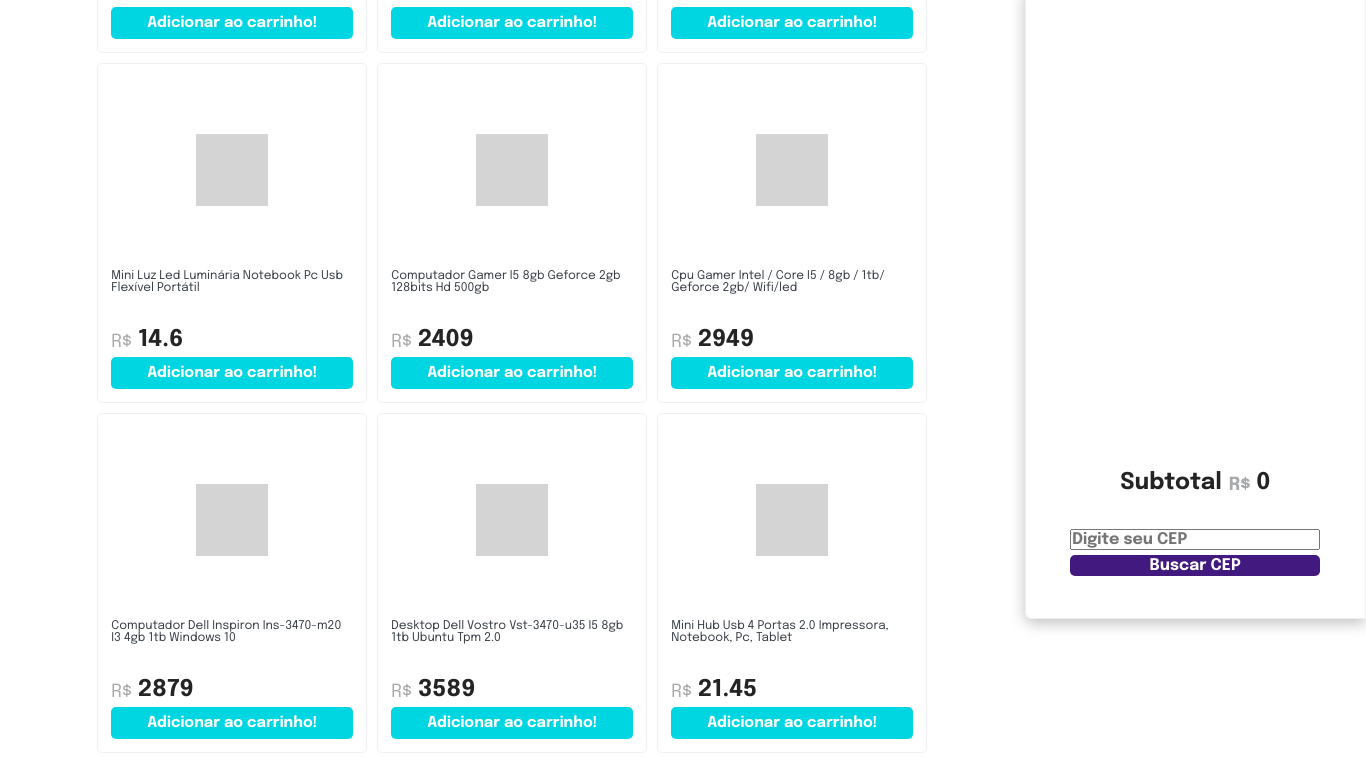
Scenario: Shopping Cart Project › 8 - Adicione o produto ao carrinho de compras › Adicione o produto ao carrinho de compras
(page scrolled)
Click the button "Adicionar ao carrinho!" below "14.6": (232, 373) [111,357,353,389]
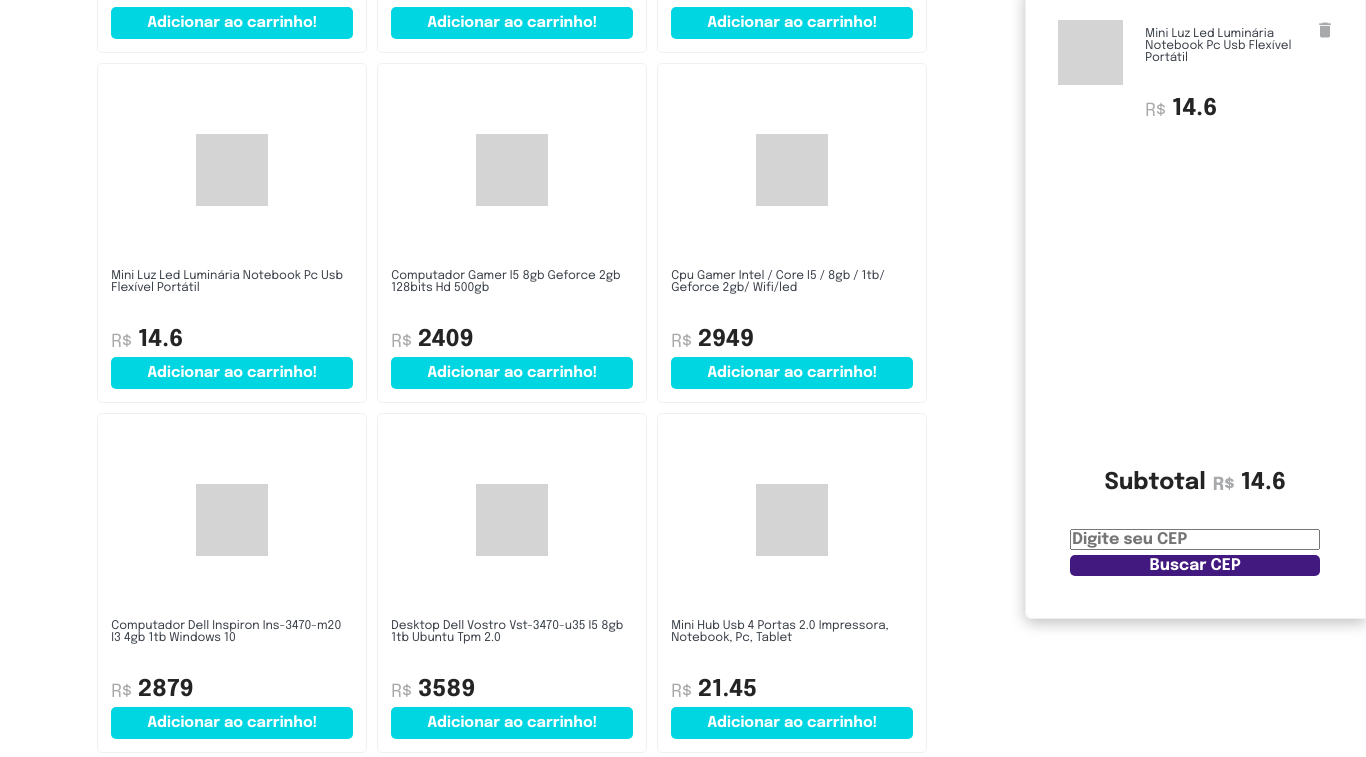
Expected: the number of list items is 1, [1056,10,1336,95]
Expected: the 1st text "Mini Luz Led Luminária Notebook Pc Usb Flexível Portátil" is shown, [1145,28,1295,64]
